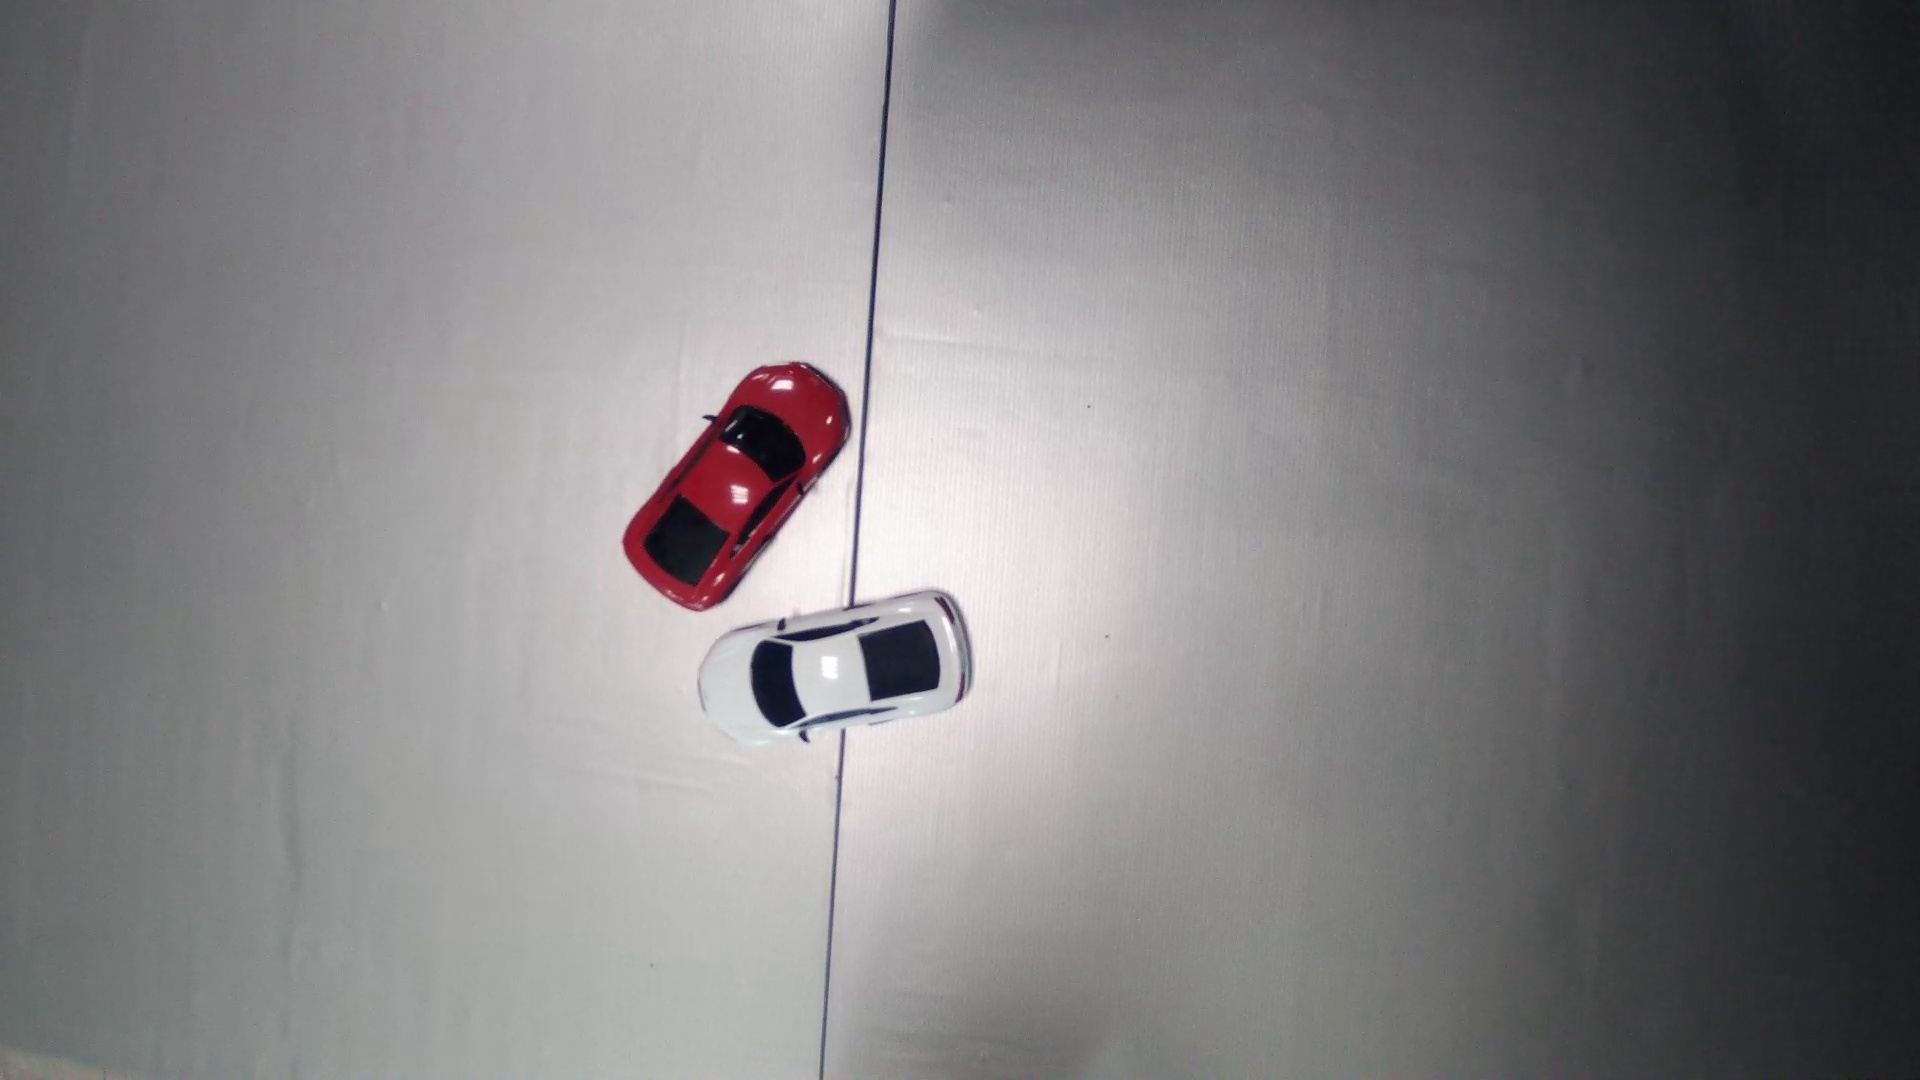remote_car: (616, 361, 855, 615), (698, 588, 975, 746)
